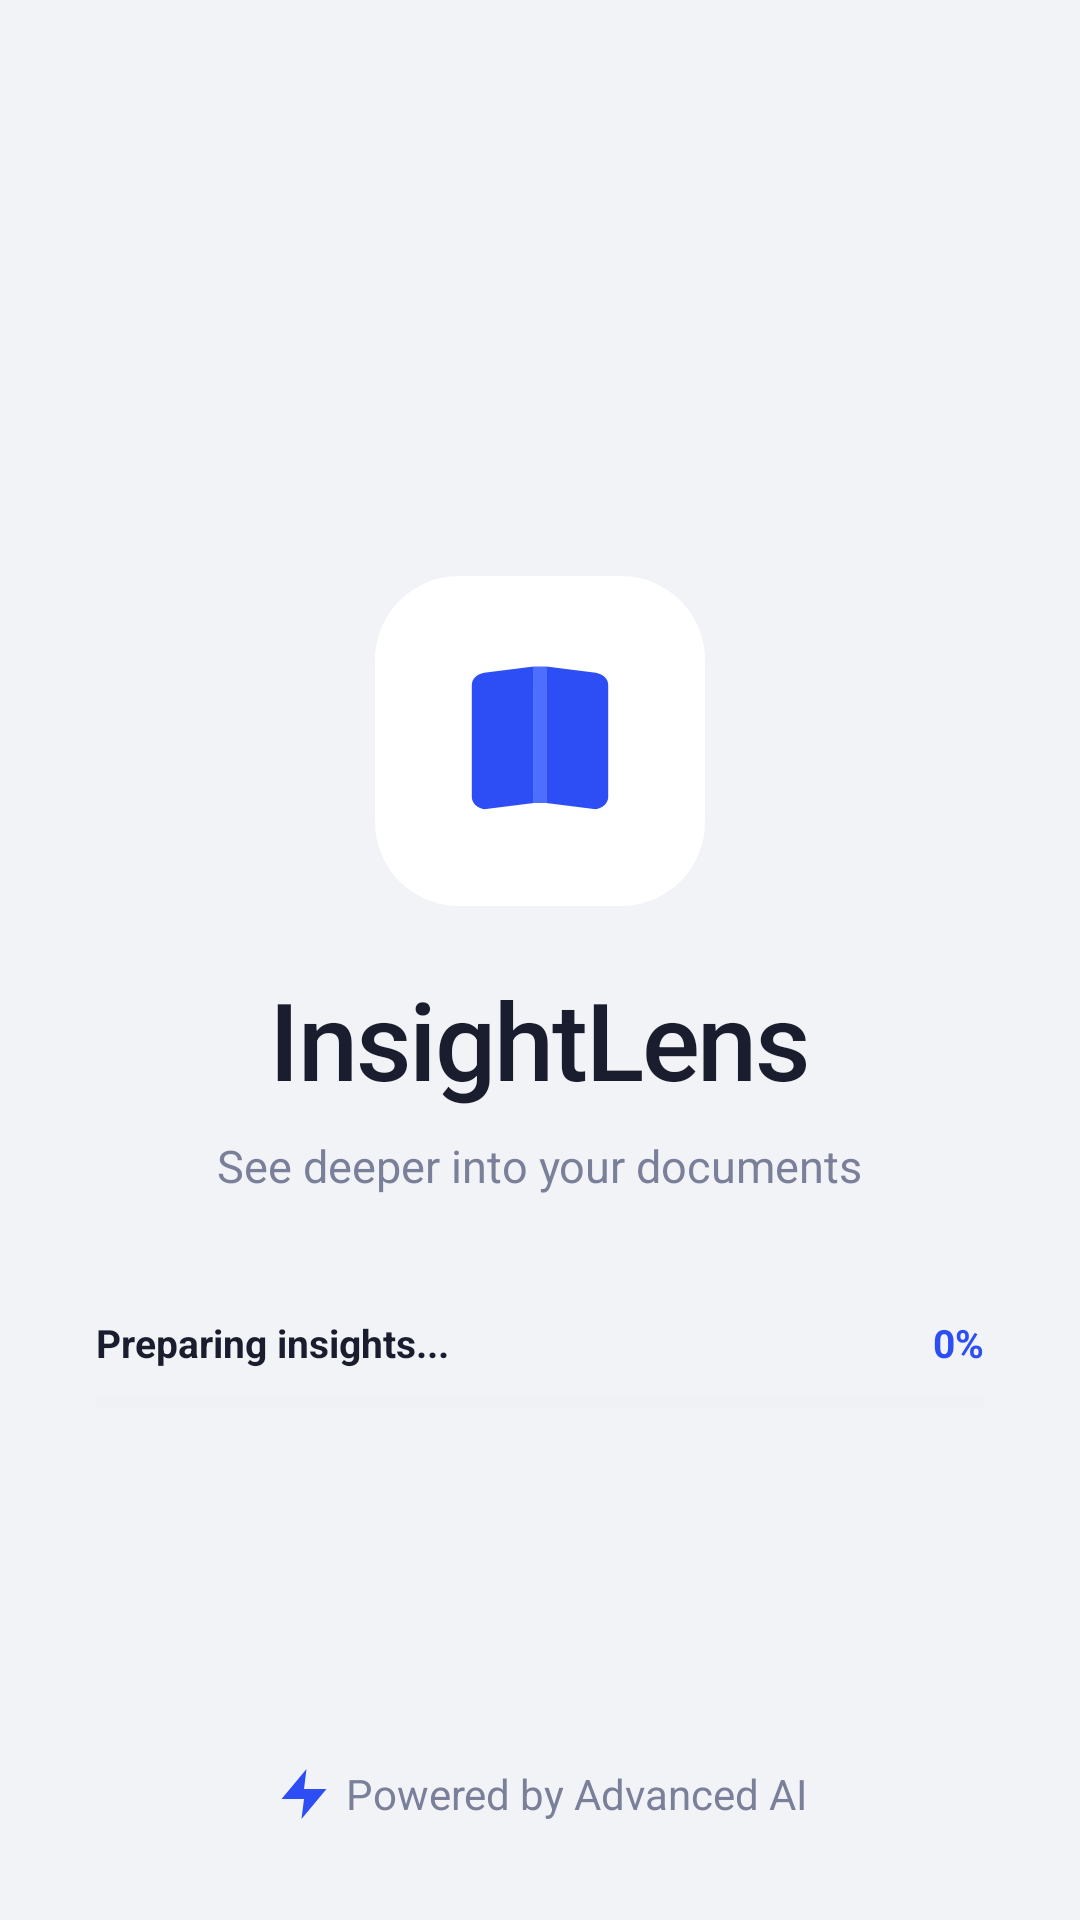

Where to tap for icons on this 1080×1920 app screen, as point (x, y):
lightning: point (304, 1794)
